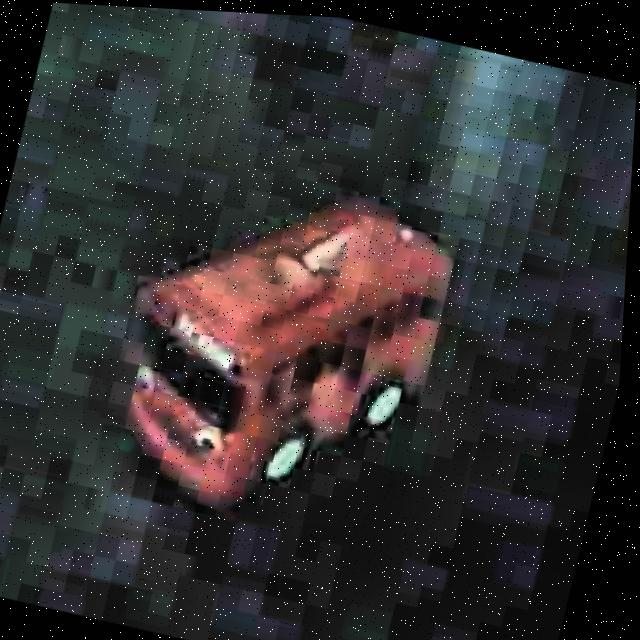bus: (72, 134, 486, 567)
